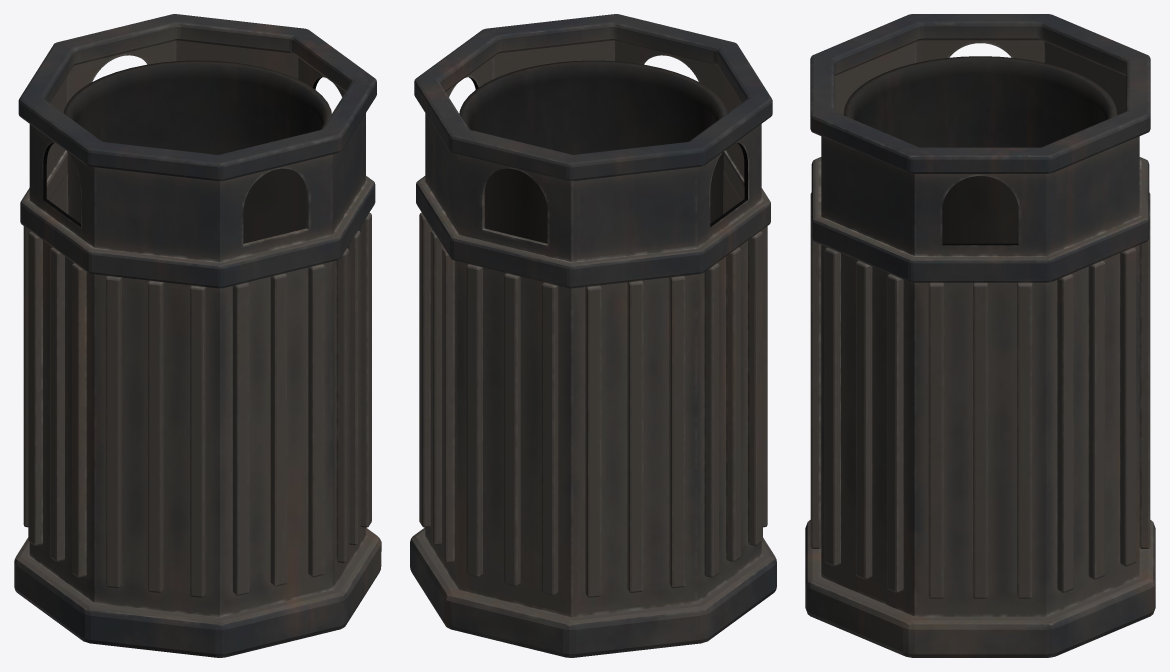
Rendered from trash-can.glb.
3 renders of one model, left to right at view 1: azimuth 30°, elevation 25°; view 2: azimuth 150°, elevation 25°; view 3: azimuth 270°, elevation 25°, orthographic.
Parts seen in each view (by area): view 1: trash-can_body.001; view 2: trash-can_body.001; view 3: trash-can_body.001.
Part boxes in pixels (x1,y1,x2,y2): trash-can_body.001: (14,14,381,657); trash-can_body.001: (410,14,776,657); trash-can_body.001: (805,14,1155,657).
Size of the model in its own units: 0.594 by 0.94 by 0.594.
Materials: 1 (1 with a texture image).
